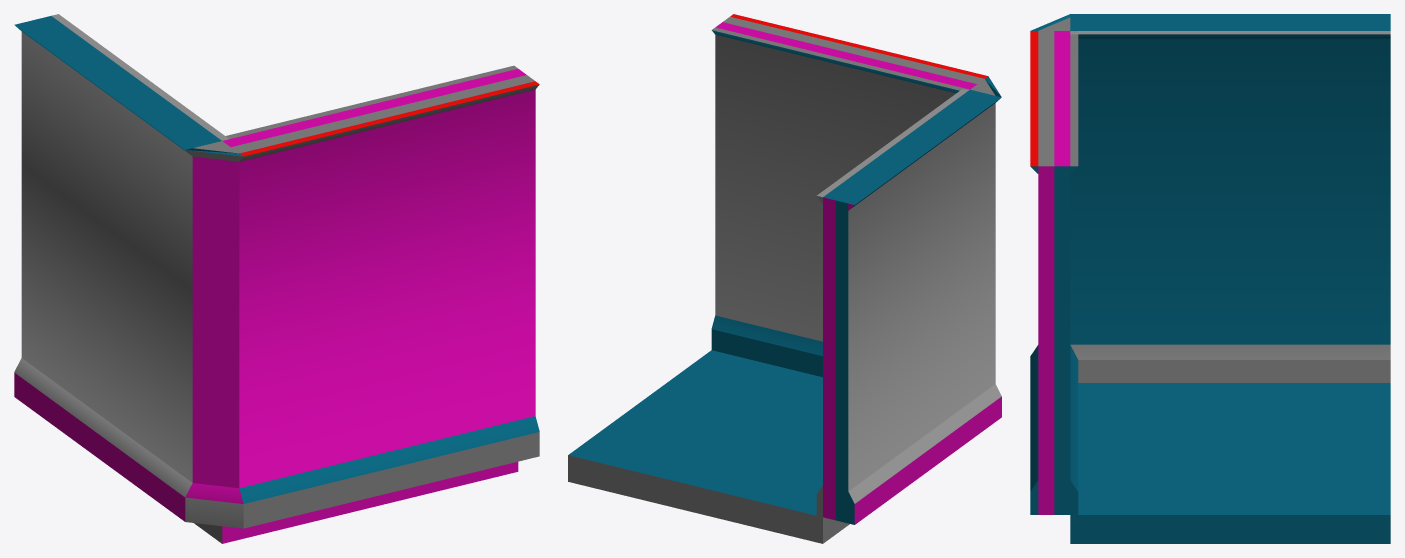
File: ModularWallCorner_V3_MES.FBX
The picture shows the model from 3 angles, left to right: view 1: azimuth 30°, elevation 25°; view 2: azimuth 150°, elevation 25°; view 3: azimuth 270°, elevation 25°; orthographic projection. The views are drawn at different scales.
Parts seen in each view (by area): view 1: ModularCorner; view 2: ModularCorner; view 3: ModularCorner.
Part boxes in pixels (x1,y1,x2,y2): ModularCorner: (14, 14, 539, 543); ModularCorner: (568, 14, 1001, 543); ModularCorner: (1030, 14, 1390, 543).
Size of the model in its own units: 113 by 130 by 113.
